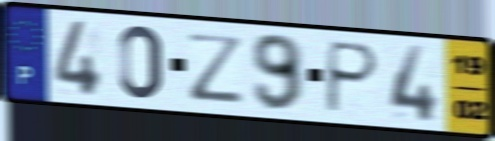0: (116, 23, 164, 102)
4: (386, 41, 444, 125), (52, 18, 104, 99)
9: (250, 32, 309, 114)
P: (321, 38, 383, 116)
Z: (183, 30, 247, 106)
